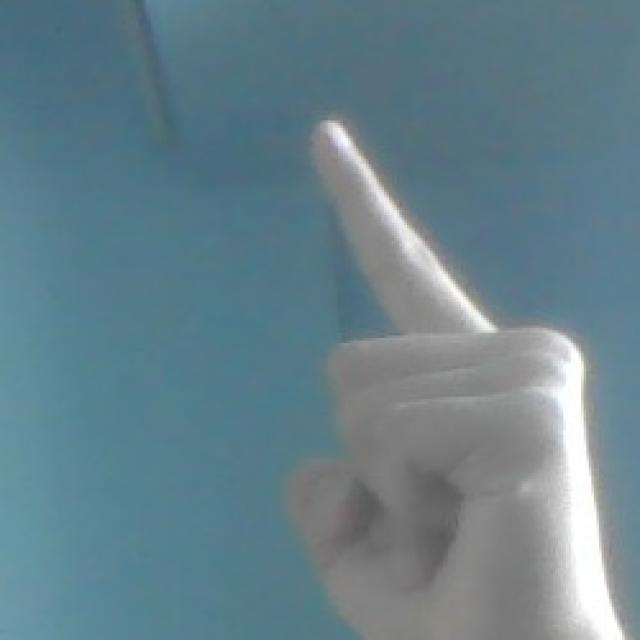Alphabet-I: (292, 123, 627, 640)
